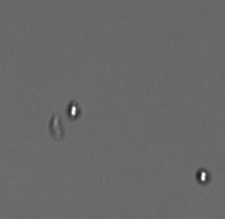Living Cell: (65, 101, 83, 119), (195, 167, 211, 185)
